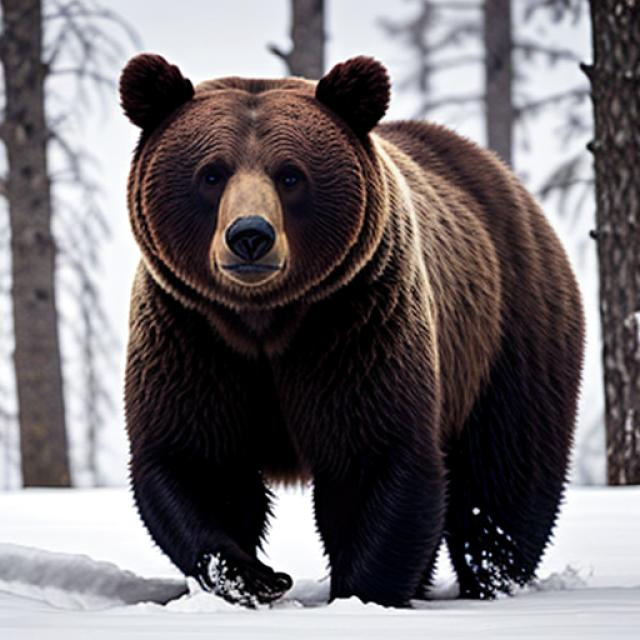bear: (110, 46, 568, 514)
